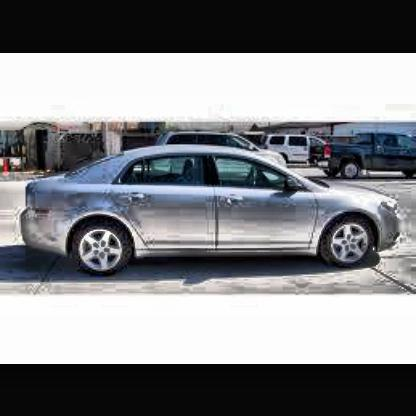Chevrolet Malibu Hybrid Sedan 2010: (24, 148, 407, 281)
